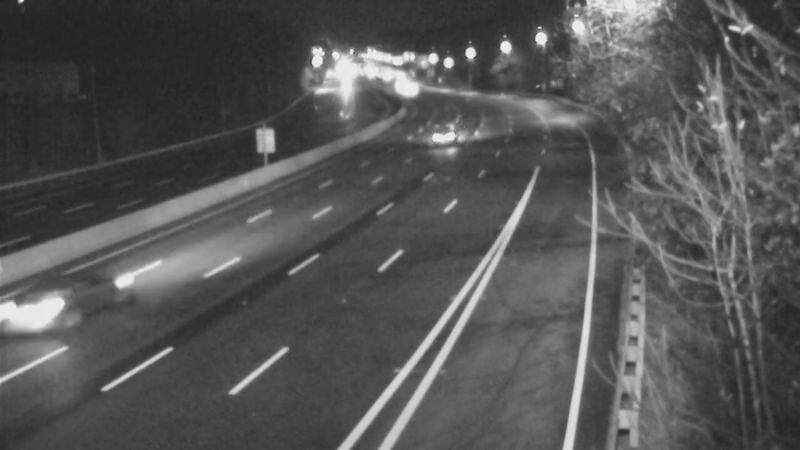vehicle: (30, 259, 110, 339), (380, 63, 430, 113), (425, 111, 475, 161)
